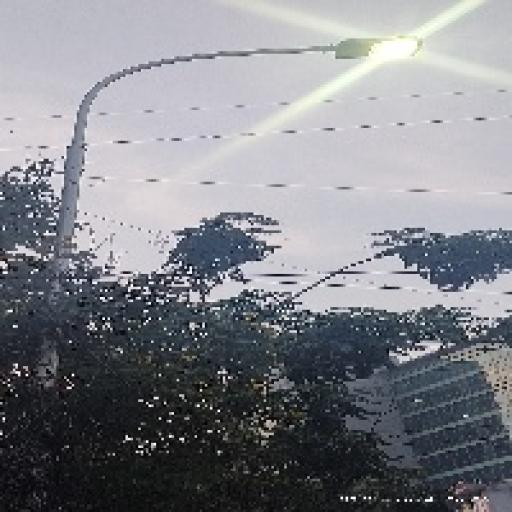Working: (329, 31, 430, 73)
